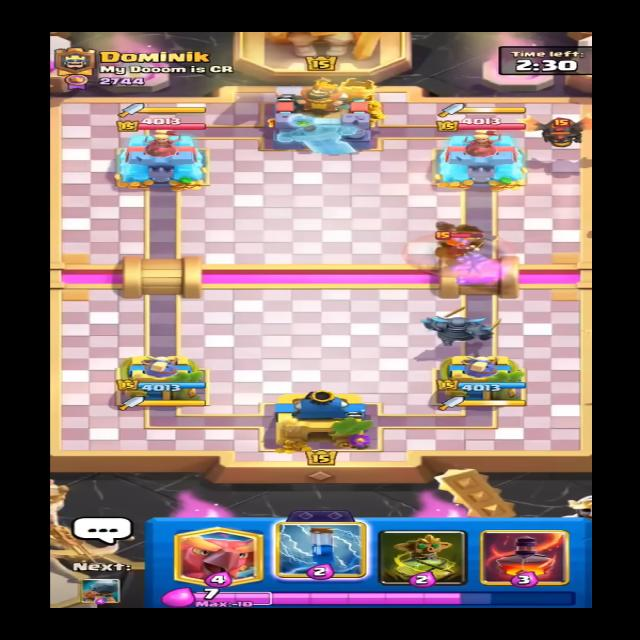lava-hound: (518, 108, 592, 151)
valkyrie: (436, 229, 490, 262)
